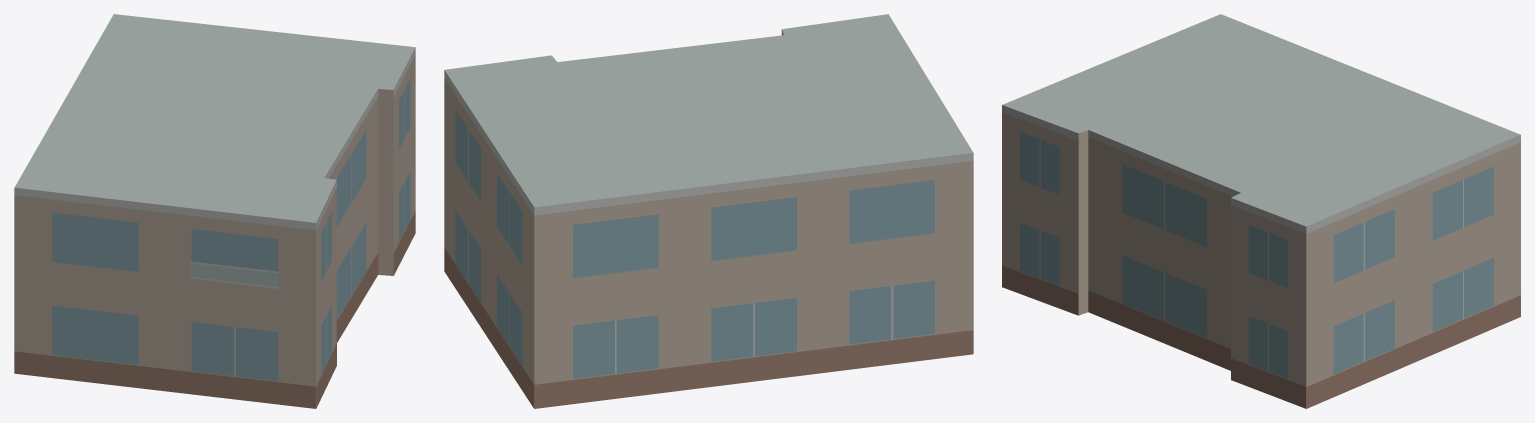
File: survey-upis-32682236.glb
3 views of the same model, side by side, from view 1: azimuth 30°, elevation 25°; view 2: azimuth 150°, elevation 25°; view 3: azimuth 270°, elevation 25° (orthographic). The views are drawn at different scales.
Visible parts, largest first — view 1: survey-upis-32682236.tmp; view 2: survey-upis-32682236.tmp; view 3: survey-upis-32682236.tmp.
Part boxes in pixels (<box>): survey-upis-32682236.tmp: <box>14,14,415,408</box>; survey-upis-32682236.tmp: <box>444,14,973,408</box>; survey-upis-32682236.tmp: <box>1002,14,1520,408</box>.
Size of the model in its own units: 15.28 by 6.1 by 15.75.
